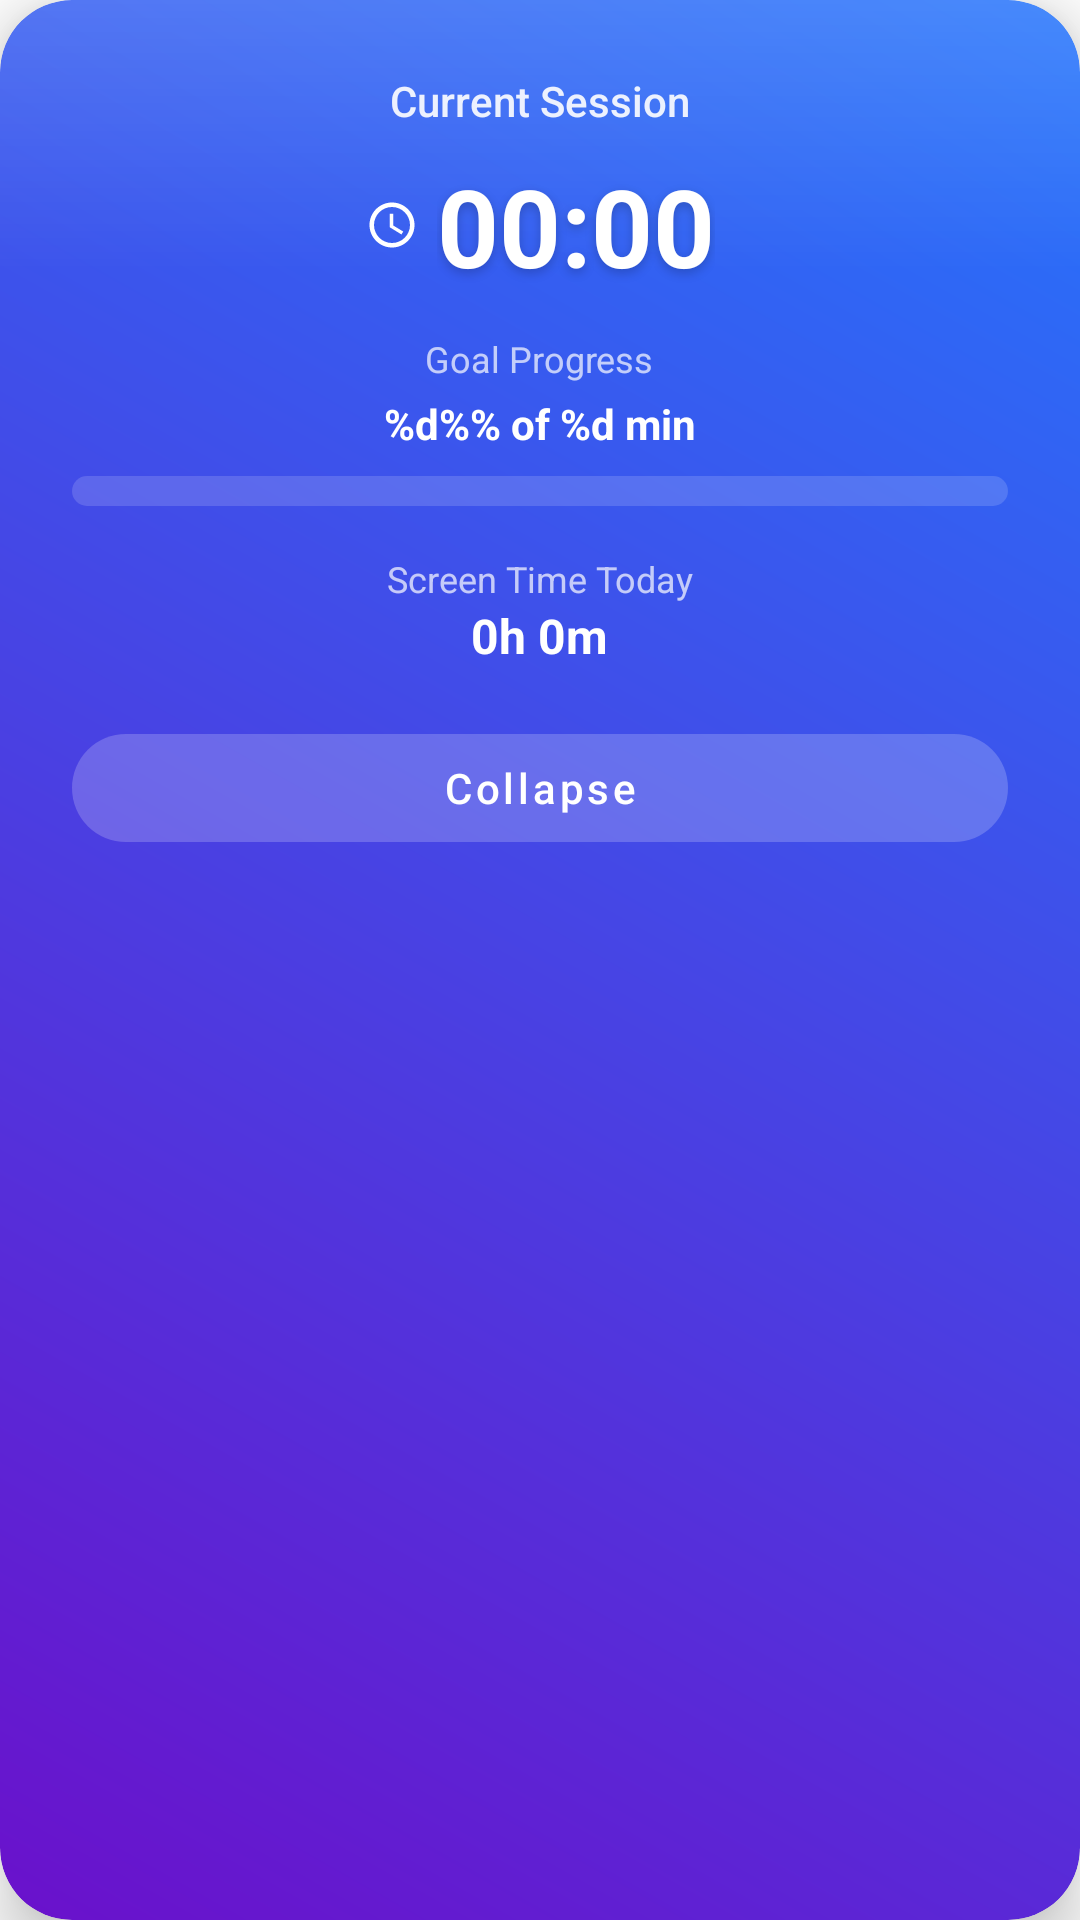

Named icons in this screenshot (1080px x 1920px) and their bounding boxes, BBox(x1, y1, x2, y2):
clock: BBox(369, 202, 415, 248)
